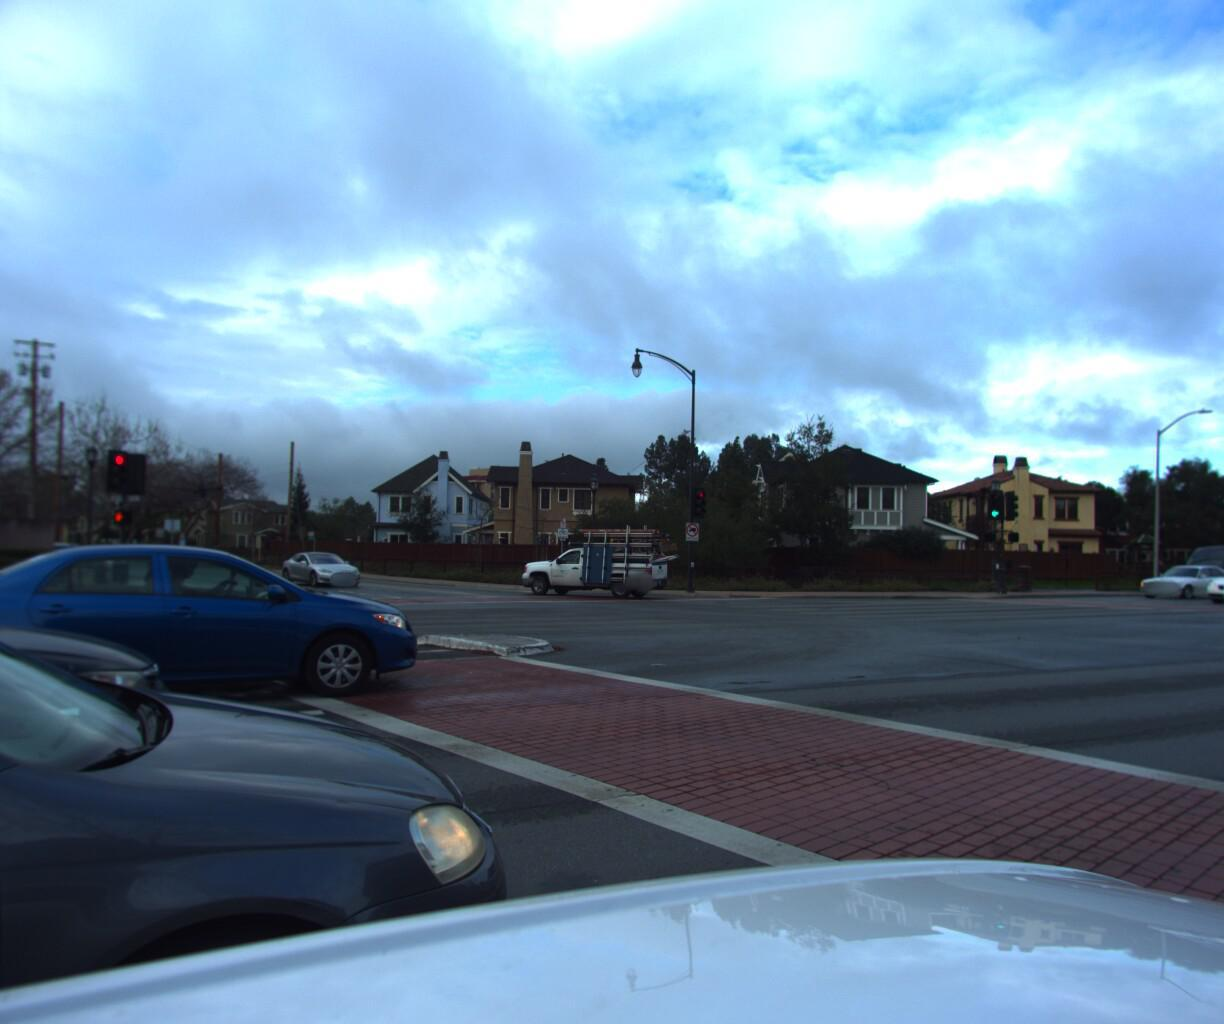car: (510, 520, 684, 597), (1128, 559, 1224, 596), (1163, 537, 1224, 592), (277, 550, 365, 588), (145, 544, 200, 571), (1192, 556, 1224, 601)
